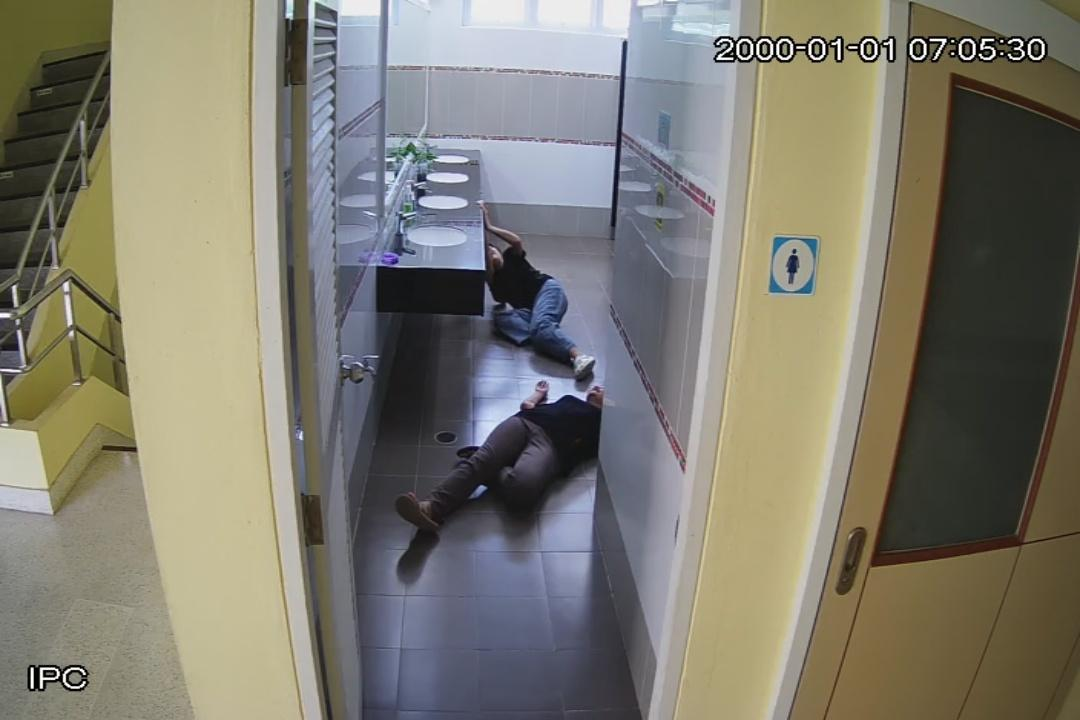fall: (394, 382, 610, 538), (472, 224, 604, 380)
